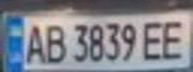3: (66, 20, 90, 64), (103, 20, 124, 62)
8: (87, 20, 106, 63)
9: (118, 19, 142, 62)
A: (21, 20, 48, 65)
B: (42, 20, 69, 65)
E: (157, 16, 190, 61), (139, 18, 169, 62)
